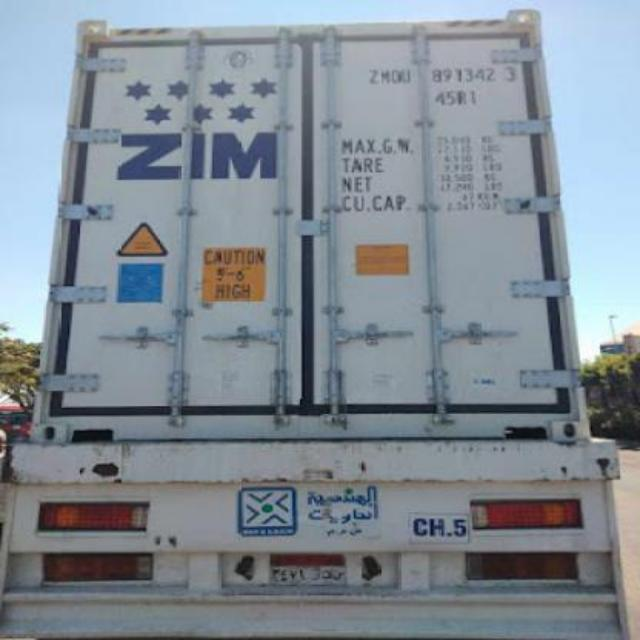1: (452, 59, 464, 86)
2: (482, 62, 498, 88)
3: (504, 63, 524, 87), (460, 62, 476, 84)
4: (472, 58, 486, 86)
8: (430, 59, 442, 86)
9: (442, 59, 452, 86)
M: (378, 63, 390, 87)
O: (392, 56, 400, 92)
U: (402, 62, 412, 84)
Z: (366, 60, 378, 90)
